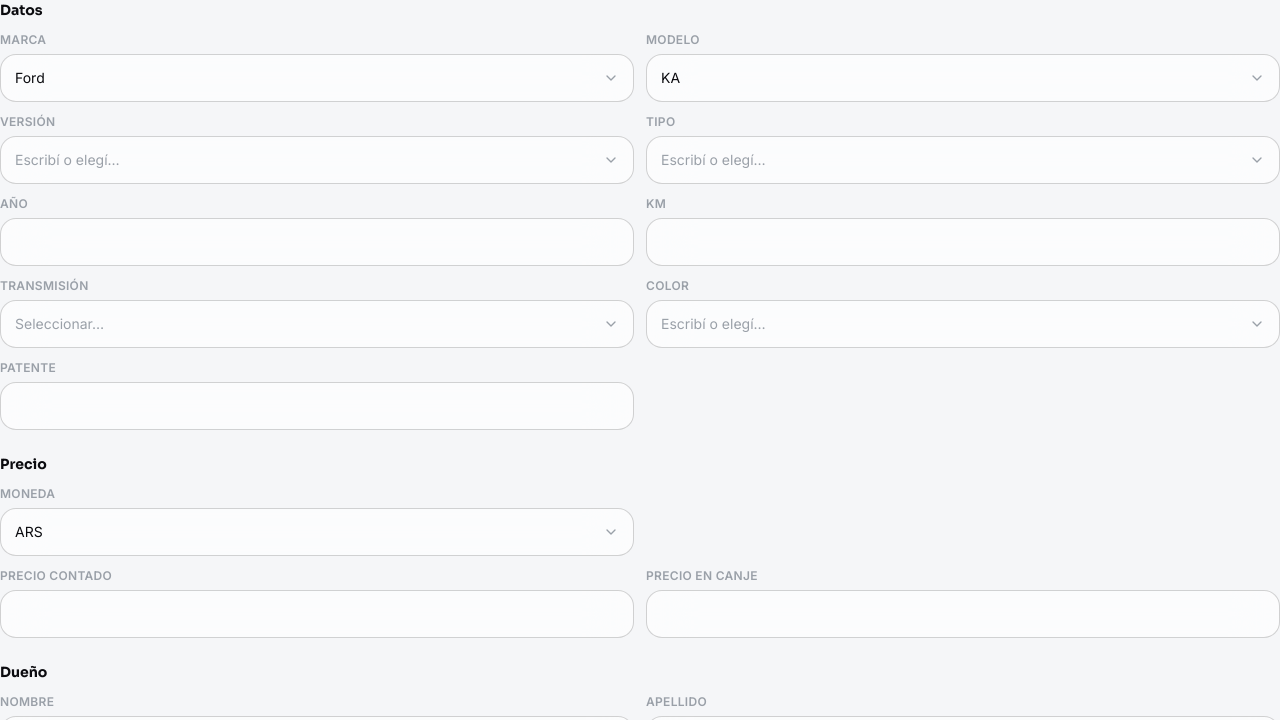
Scenario: VehiculoForm › marca vacía → error y no envía
Clear the field labelled "Marca": (304, 78) [15,68,593,88]
(page scrolled)
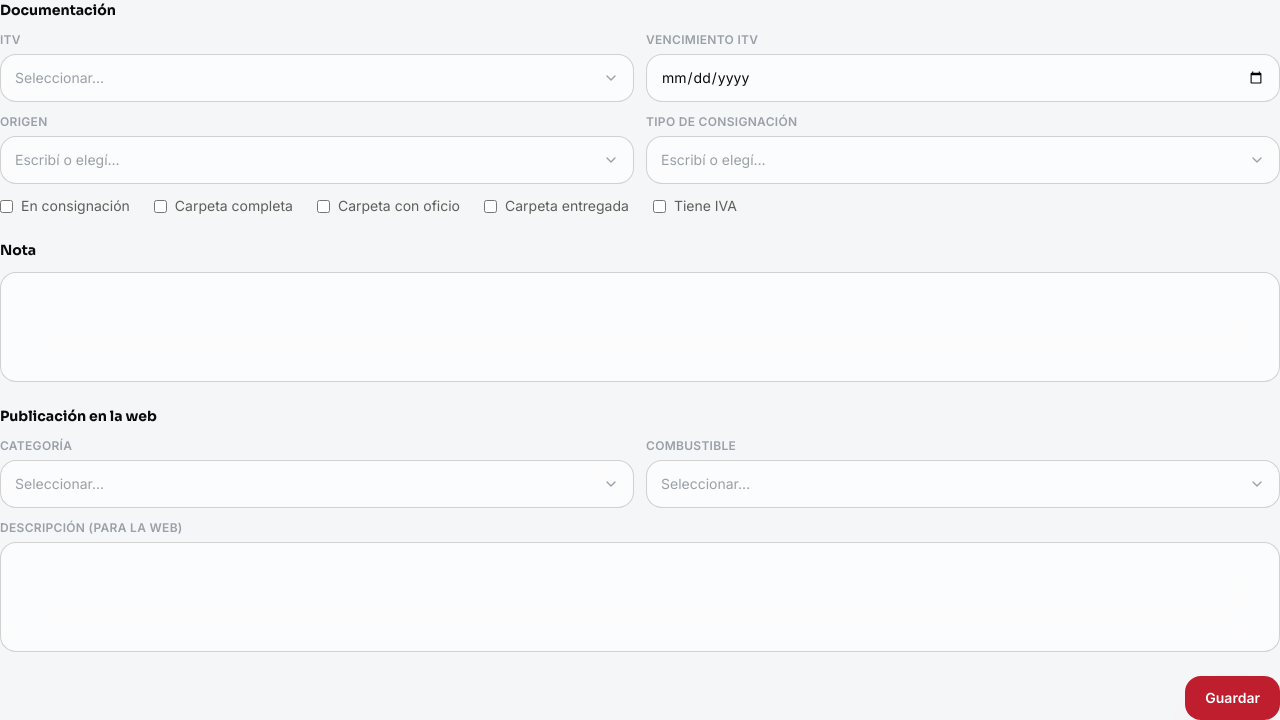
Click the button "Guardar": (1233, 698) [1185,676,1279,719]
(page scrolled)
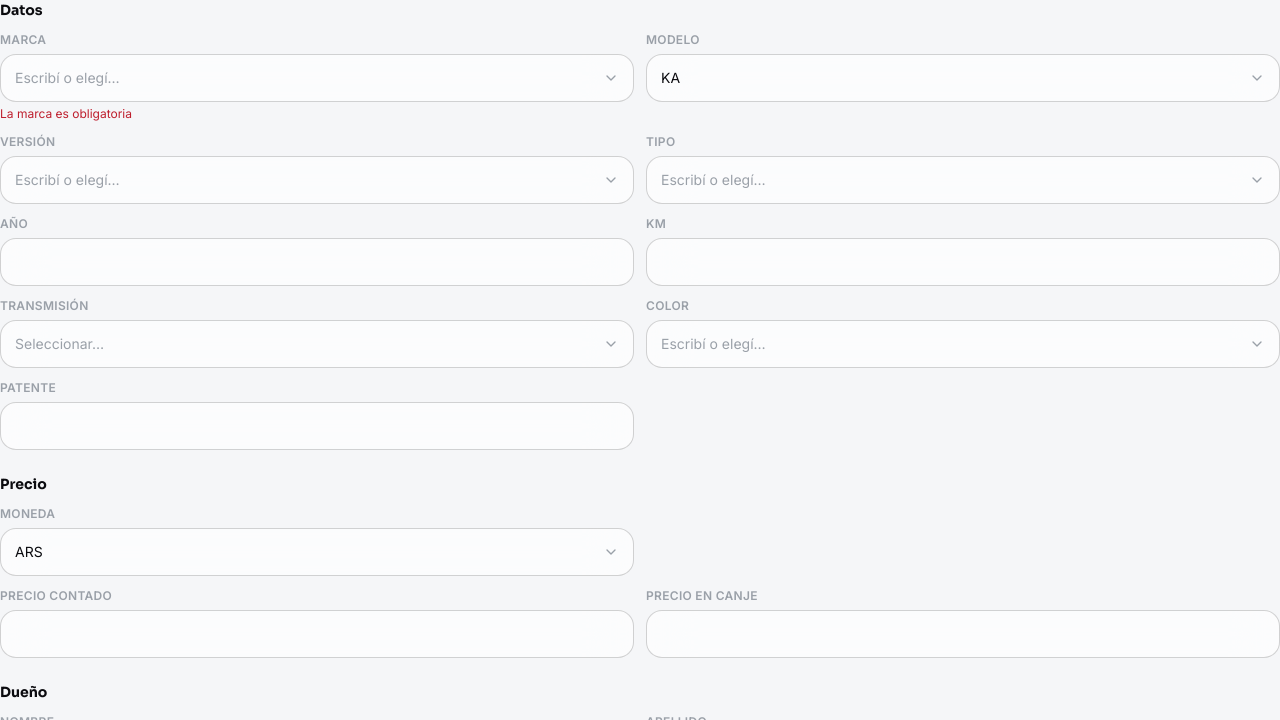
Now the text "La marca es obligatoria" is shown, box [0,106,132,121]
